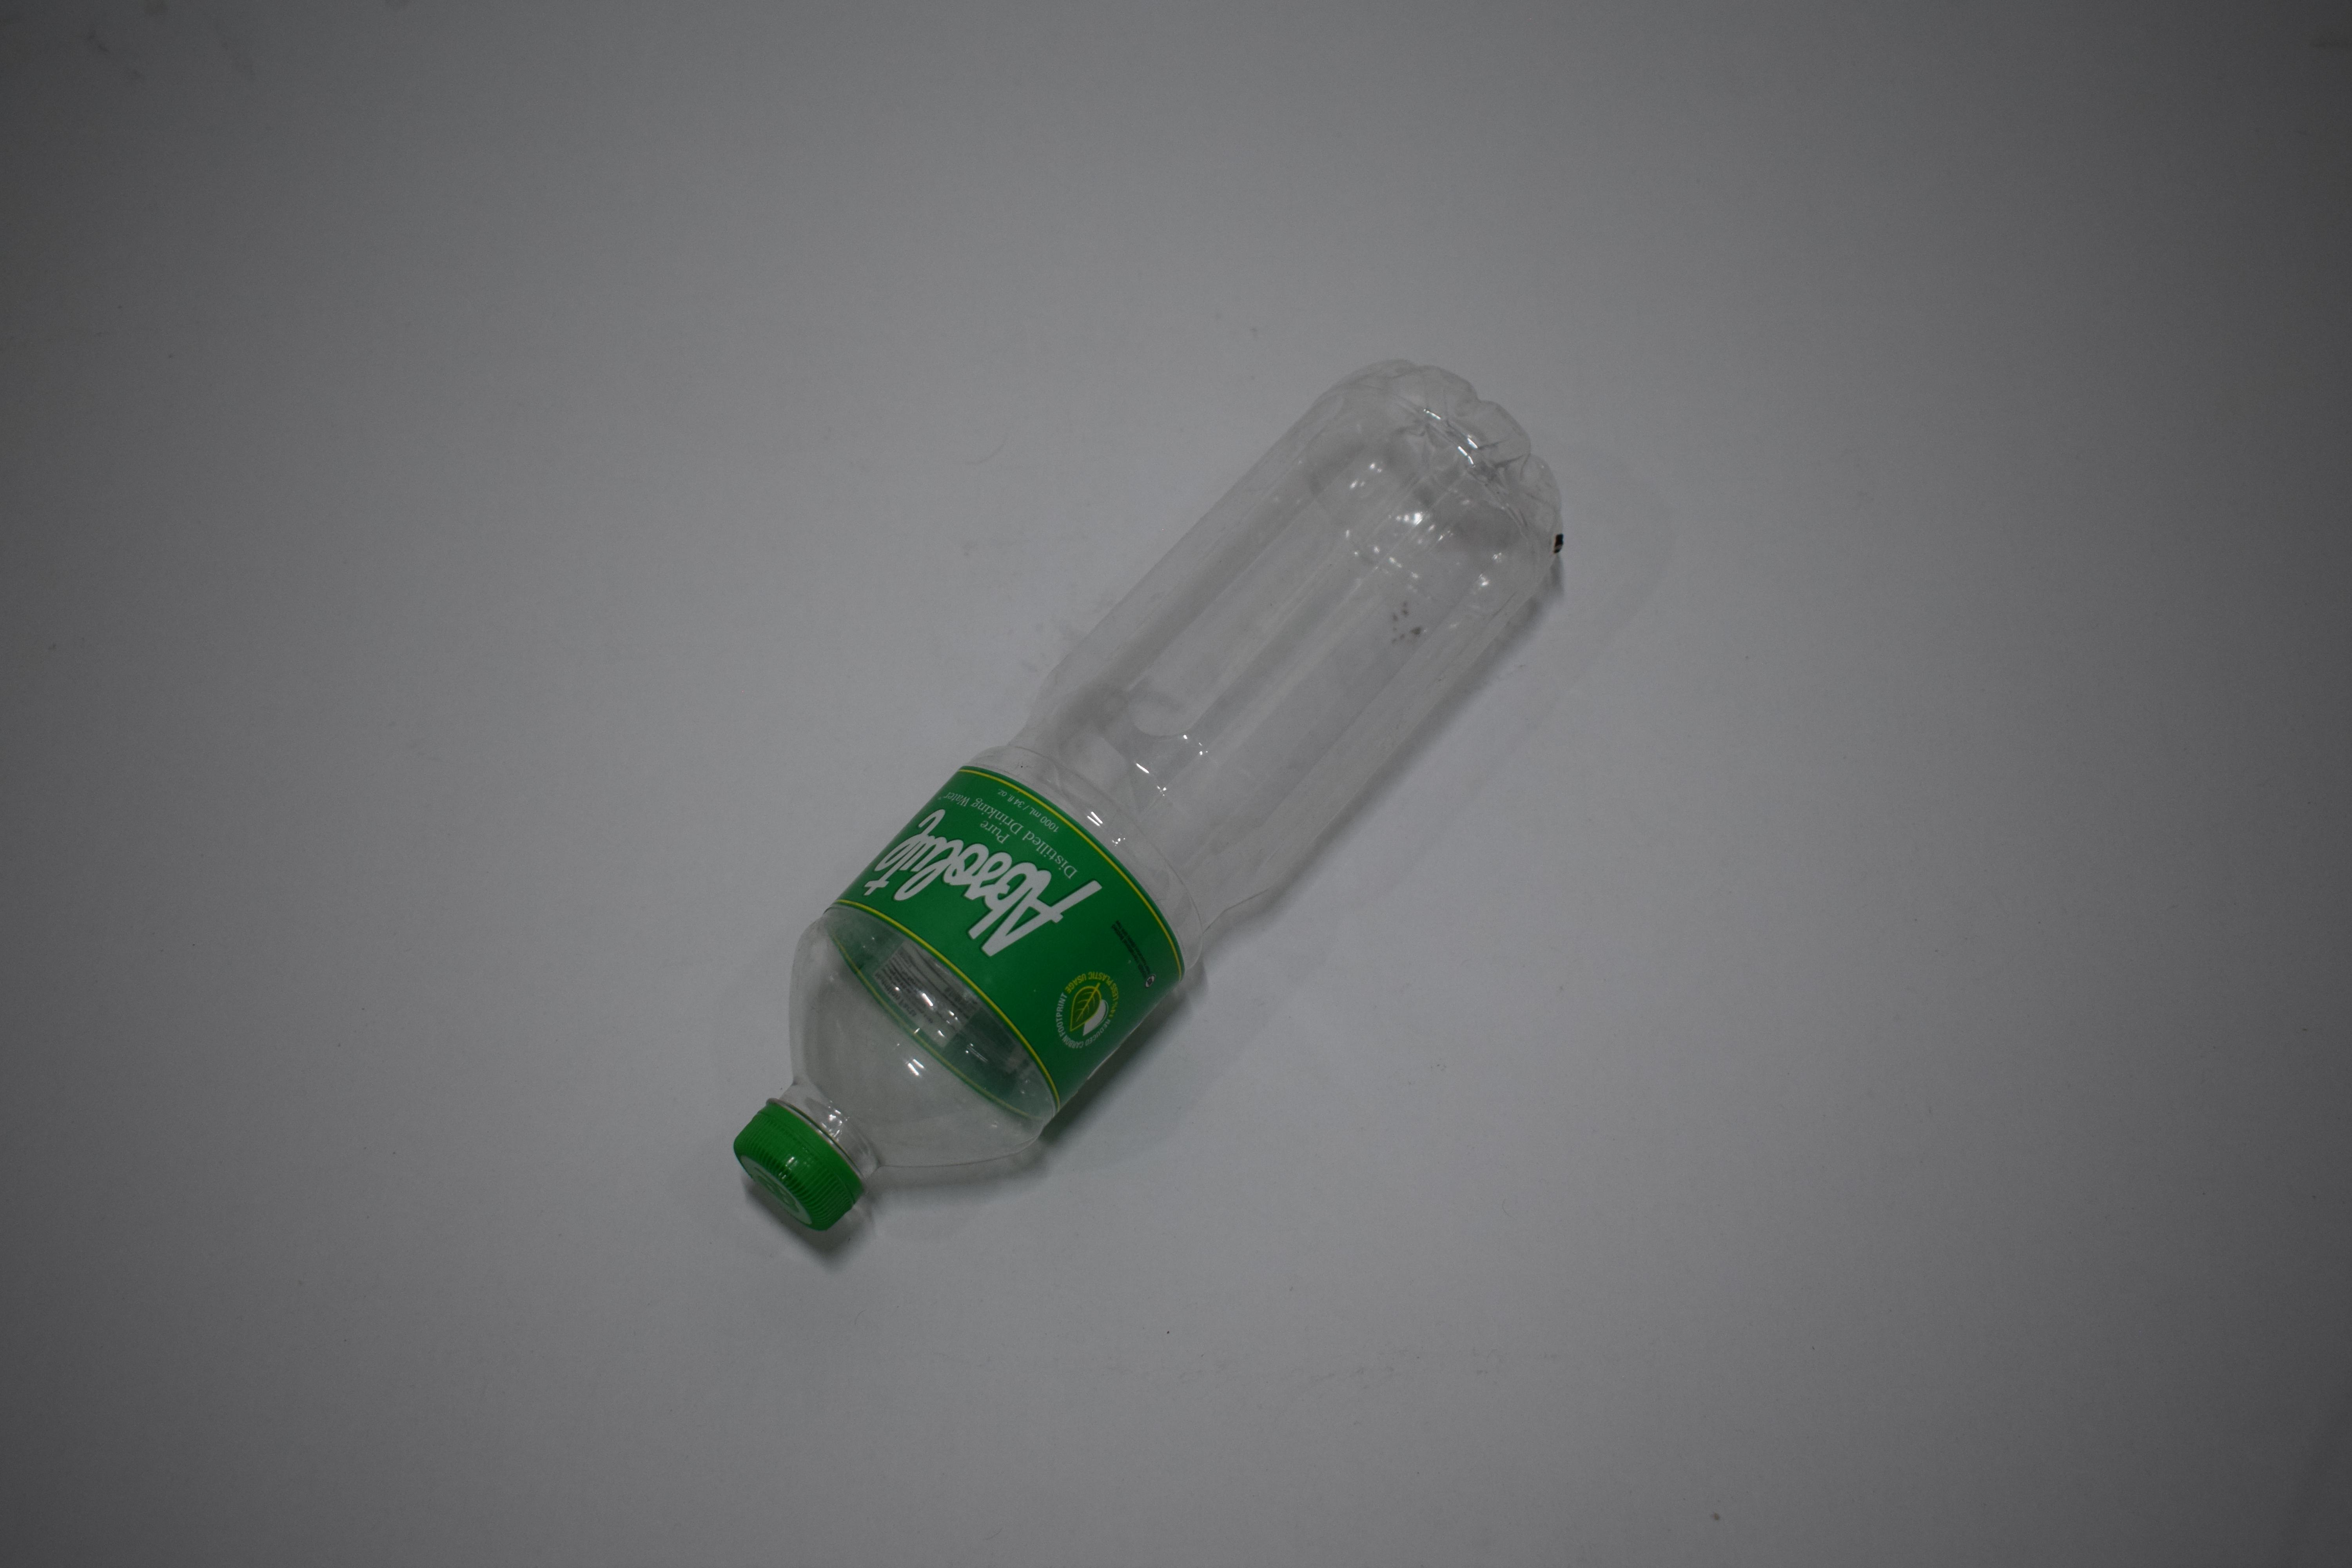bottle: (724, 0, 1575, 70)
